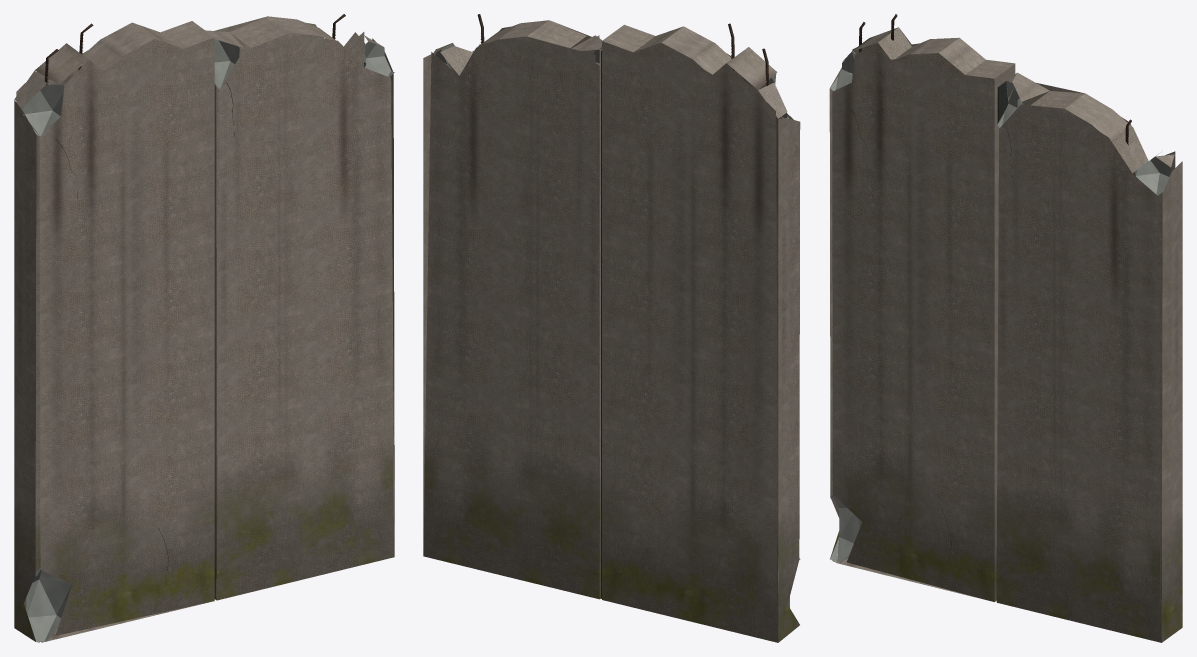
The model's file is lod1_NOT_APPROVED.glb.
The picture shows the model from 3 angles, left to right: view 1: azimuth 30°, elevation 25°; view 2: azimuth 150°, elevation 25°; view 3: azimuth 330°, elevation 25°; orthographic projection. The views are drawn at different scales.
Parts seen in each view (by area): view 1: f3_rain_stained_wall_surface, f3_exposed_aggregate_surface; view 2: f3_rain_stained_wall_surface, f3_deep_crack_surface; view 3: f3_rain_stained_wall_surface, f3_exposed_aggregate_surface, f3_deep_crack_surface.
Boxes of the visible parts, x1,y1,x2,y2 form: f3_rain_stained_wall_surface: (14, 16, 394, 642); f3_exposed_aggregate_surface: (23, 39, 394, 642); f3_rain_stained_wall_surface: (423, 20, 800, 642); f3_deep_crack_surface: (601, 50, 601, 598); f3_rain_stained_wall_surface: (829, 27, 1182, 642); f3_exposed_aggregate_surface: (830, 51, 1171, 562); f3_deep_crack_surface: (847, 81, 1016, 577).
Bounding box in the file's own units: 4.05 × 6.46 × 0.4472.
4 materials, 4 textured.
